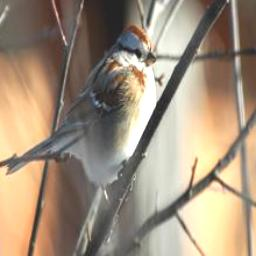Sparrow: (2, 21, 158, 200)
